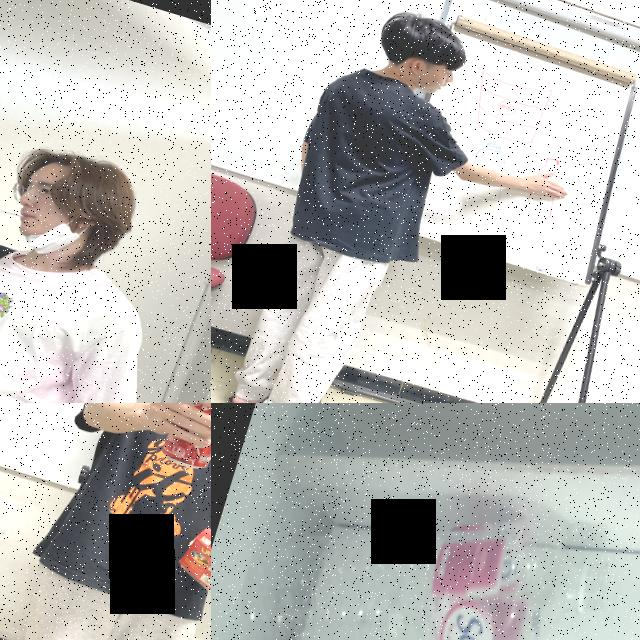bottle: (230, 448, 622, 640)
can: (159, 403, 211, 475)
